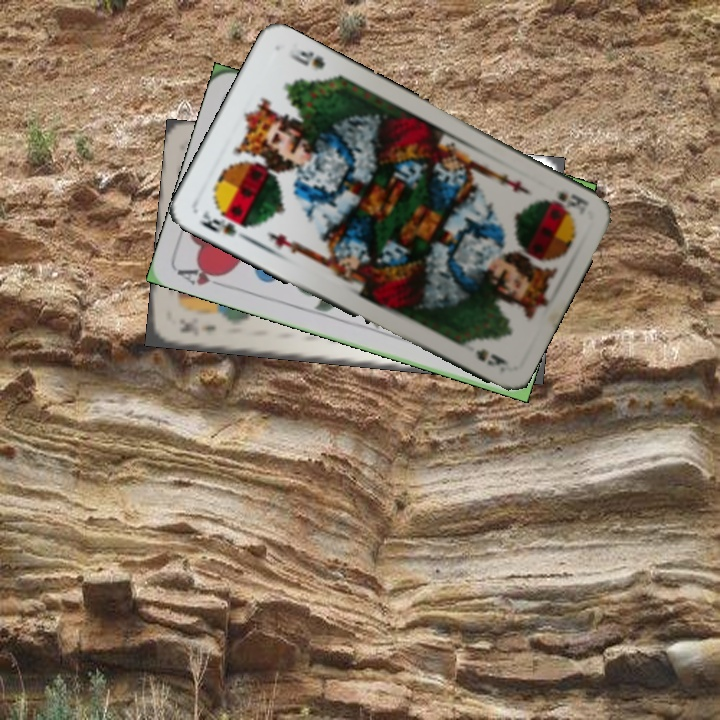EK: (176, 319, 219, 340)
HA: (174, 260, 232, 289)
SK: (194, 206, 250, 241), (540, 187, 592, 217)
